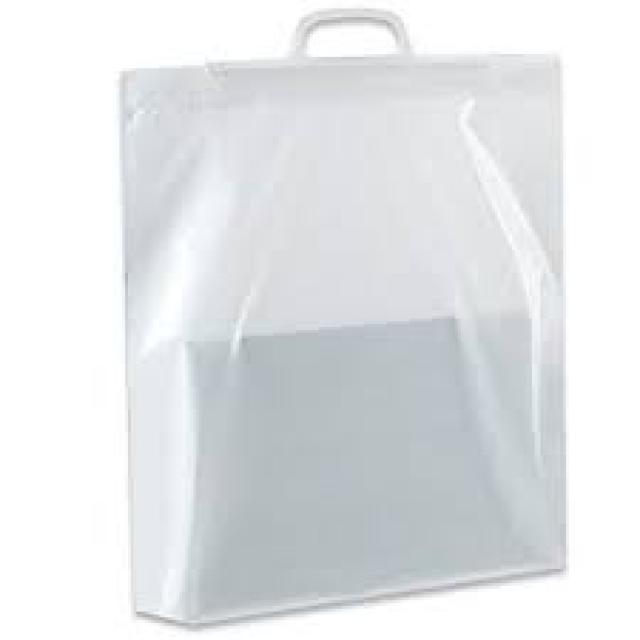plastic: (114, 6, 566, 623)
